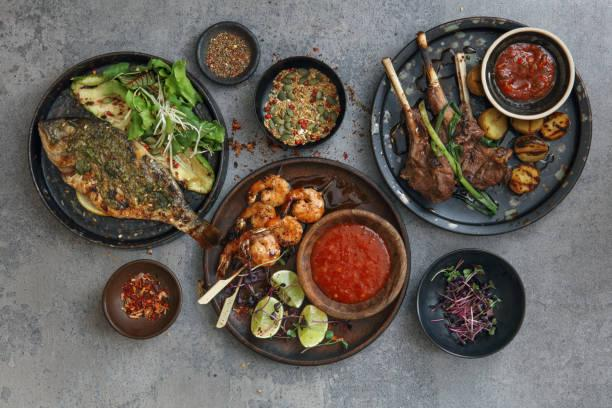Braised Crucian Carp: (371, 16, 589, 234), (202, 158, 405, 364), (27, 49, 223, 246), (414, 249, 527, 358), (254, 55, 346, 149)
